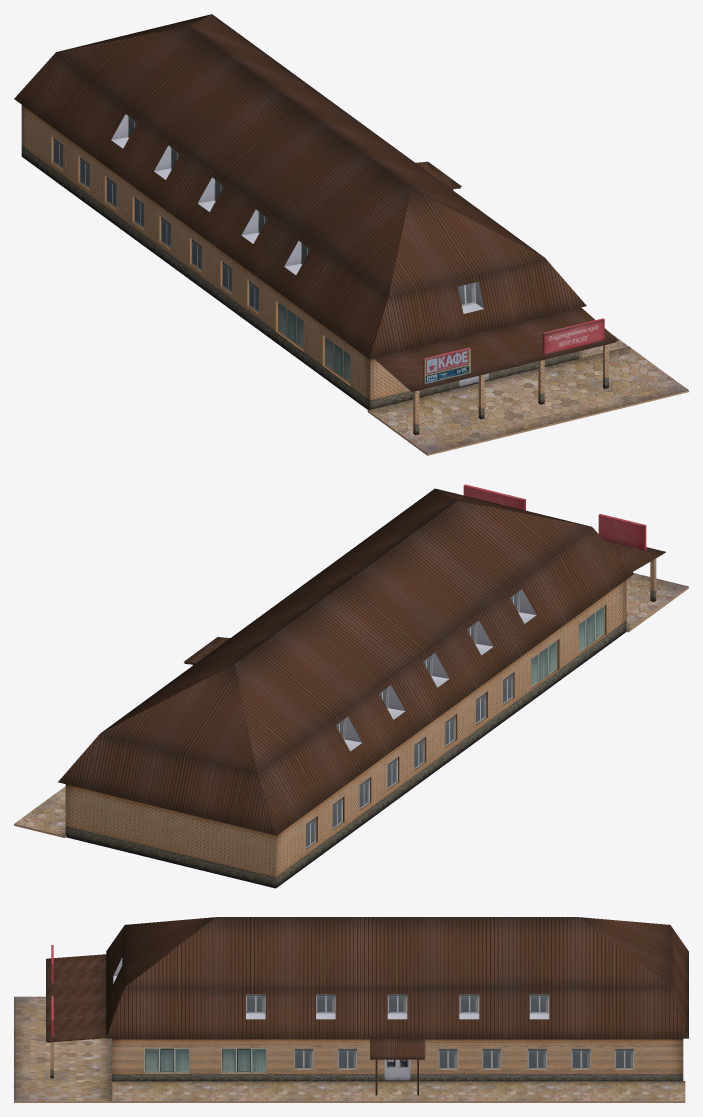
File: Roadside_motel.fbx
3 views of the same model, one above another, from view 1: azimuth 30°, elevation 25°; view 2: azimuth 150°, elevation 25°; view 3: azimuth 270°, elevation 25° (orthographic). The views are drawn at different scales.
Parts seen in each view (by area): view 1: Box001; view 2: Box001; view 3: Box001.
Part boxes in pixels (x1,y1,x2,y2): Box001: (14,14,688,455); Box001: (14,484,688,888); Box001: (14,917,688,1102).
Size of the model in its own units: 15.11 by 8.29 by 40.93.
Materials: 1 (1 with a texture image).
